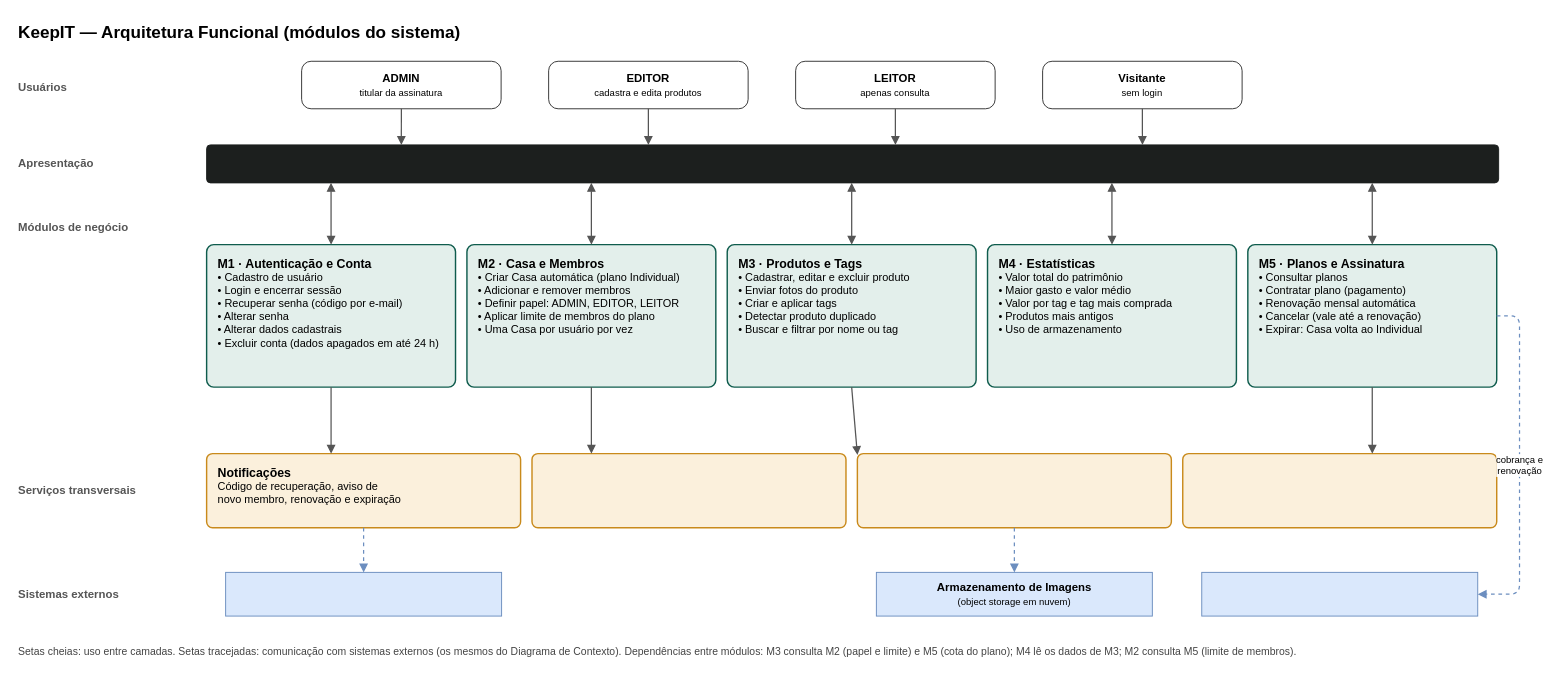
Some shapes in this 1559 by 693 pixel diagram are drawn without their labels. The shapes that lost their labels are listed below. From the top down, each one's centre as x and y in pixels, then its label:
point 852,163: Interface web responsiva — 24 telas (celular e desktop)
point 688,490: Controle de acesso Verifica o papel do usuário em cada ação de cada módulo
point 1014,490: Arquivos e cota Guarda as fotos e controla o espaço usado pela Casa
point 1339,490: Rotinas agendadas Expira assinaturas vencidas e apaga contas excluídas (24 h)
point 363,593: Serviço de E-mail
point 1339,593: Gateway de Pagamento
